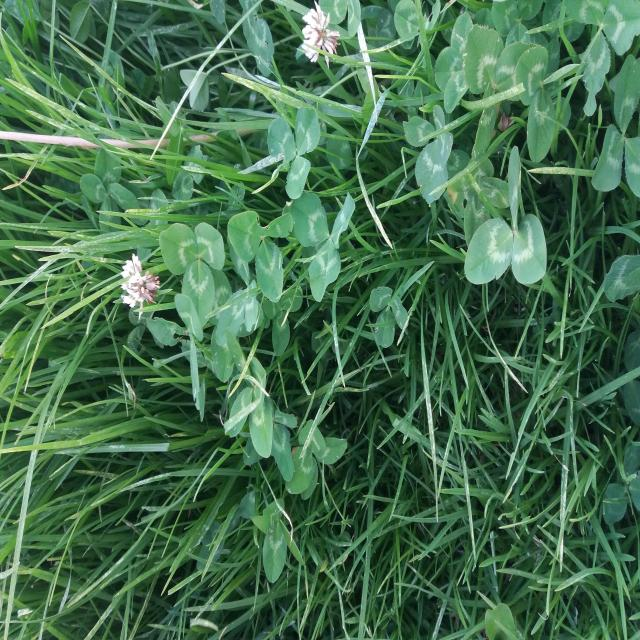Four Leaf Clover: (227, 329, 273, 458), (80, 143, 139, 234), (285, 419, 347, 501)
